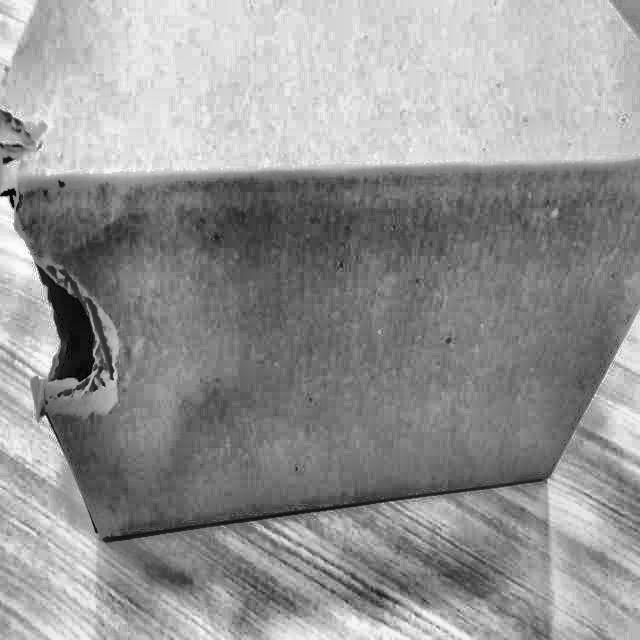box: (0, 0, 639, 551)
hole: (1, 106, 122, 415)
